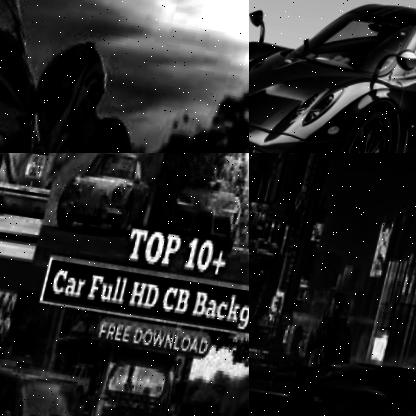car: (249, 0, 416, 153), (249, 340, 416, 416), (78, 335, 202, 416), (55, 153, 159, 238), (163, 166, 249, 247), (0, 153, 78, 236), (0, 362, 98, 416), (0, 337, 9, 416)
